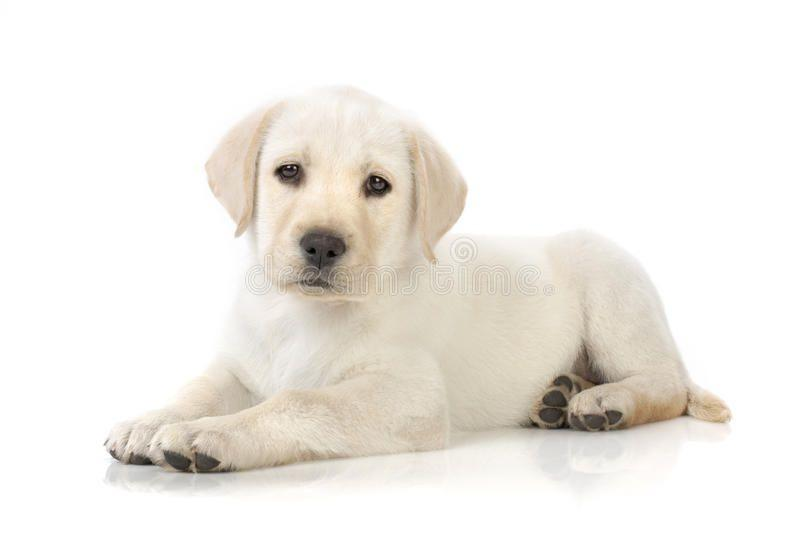puppy-dog: (102, 87, 734, 474)
